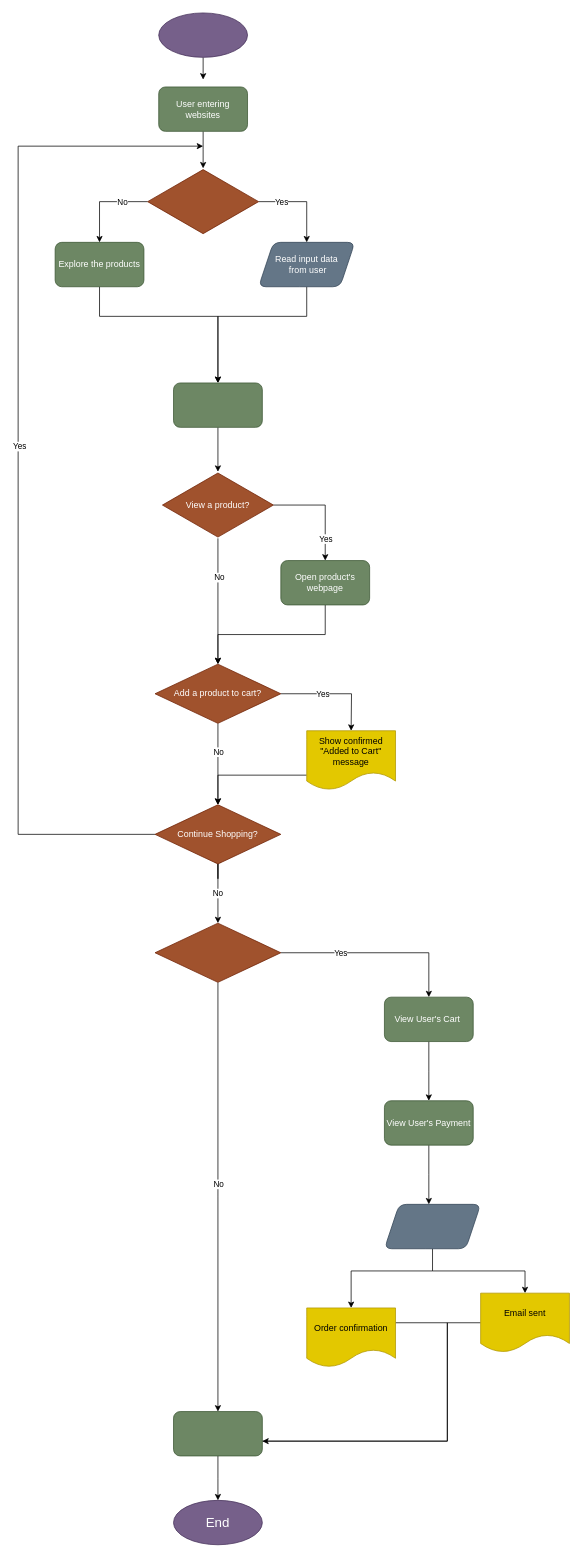
The diagram is 582 pixels wide and 1558 high, and some of its shapes have lost their labels. Here are the shapes that lost their labels. From the top down, the box of each, then its label:
(158, 12, 248, 57): Start
(147, 168, 259, 235): Search for a product?
(173, 382, 262, 427): Show a list of products
(154, 922, 281, 982): Check out?
(384, 1204, 481, 1249): Read user's payment input
(173, 1411, 262, 1456): Leave Website
